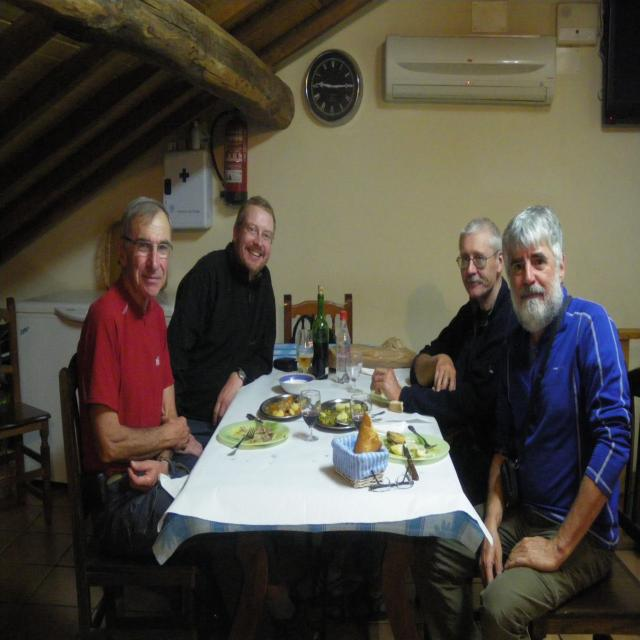body: (407, 200, 636, 640), (74, 191, 242, 640), (371, 217, 523, 606), (166, 194, 280, 461)
